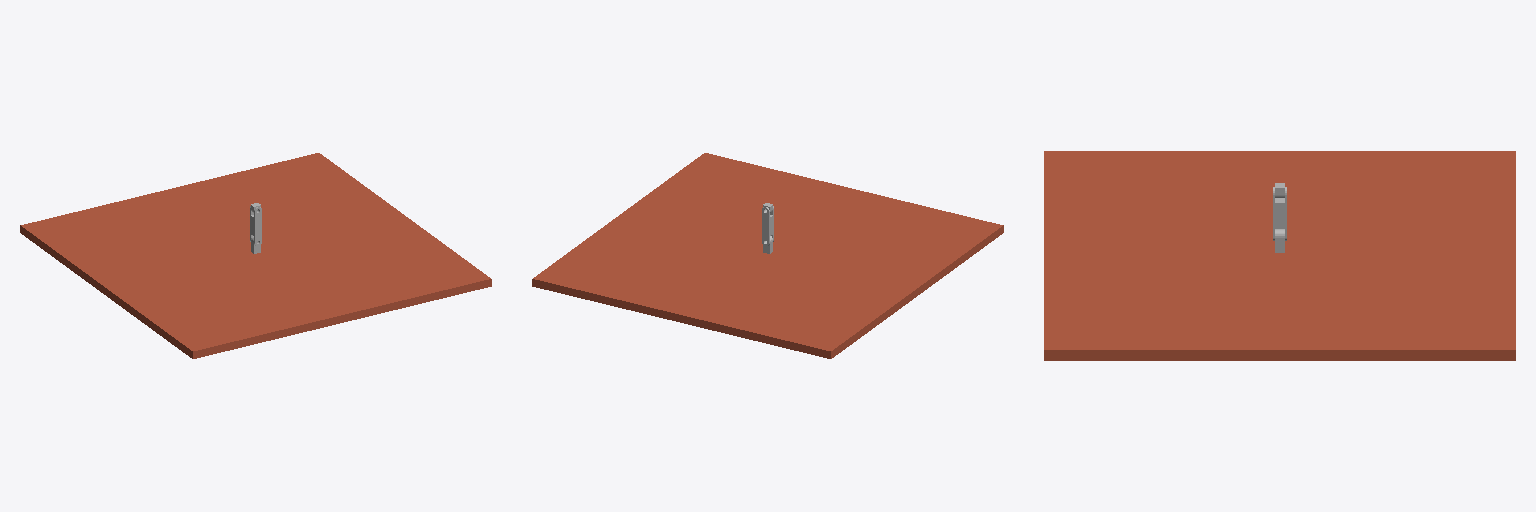
robot.urdf — adaption_finger:
<robot
  name="adaption_finger">
  <link
    name="finger_base_link">
    <inertial>
      <origin
        xyz="2.1684E-19 1.7347E-18 0.0012139"
        rpy="0 0 0" />
      <mass
        value="0.00063708" />
      <inertia
        ixx="0"
        ixy="0"
        ixz="0"
        iyy="0"
        iyz="0"
        izz="0" />
    </inertial>
    <visual>
      <origin
        xyz="0 0 0"
        rpy="0 0 0" />
      <geometry>
        <mesh
          filename="package://adaption_finger/meshes/base_link.STL" />
      </geometry>
      <material
        name="">
        <color
          rgba="0.75294 0.75294 0.75294 1" />
      </material>
    </visual>
    <collision>
      <origin
        xyz="0 0 0"
        rpy="0 0 0" />
      <geometry>
        <mesh
          filename="package://adaption_finger/meshes/base_link.STL" />
      </geometry>
    </collision>
  </link>
  <link
    name="upper_link">
    <inertial>
      <origin
        xyz="4.3368E-18 1.7347E-18 -0.02"
        rpy="0 0 0" />
      <mass
        value="0.0036771" />
      <inertia
        ixx="0"
        ixy="0"
        ixz="0"
        iyy="0"
        iyz="0"
        izz="0" />
    </inertial>
    <visual>
      <origin
        xyz="0 0 0"
        rpy="0 0 0" />
      <geometry>
        <mesh
          filename="package://adaption_finger/meshes/upper_link.STL" />
      </geometry>
      <material
        name="">
        <color
          rgba="0.75294 0.75294 0.75294 1" />
      </material>
    </visual>
    <collision>
      <origin
        xyz="0 0 0"
        rpy="0 0 0" />
      <geometry>
        <mesh
          filename="package://adaption_finger/meshes/upper_link.STL" />
      </geometry>
    </collision>
  </link>
  <joint
    name="tail_joint"
    type="continuous">
    <origin
      xyz="0 0 0"
      rpy="0 0 0" />
    <parent
      link="finger_base_link" />
    <child
      link="upper_link" />
    <axis
      xyz="0 -1 0" />
  </joint>
  <link
    name="tip_link">
    <inertial>
      <origin
        xyz="5.2042E-18 1.7347E-18 -0.02"
        rpy="0 0 0" />
      <mass
        value="0.0035142" />
      <inertia
        ixx="0"
        ixy="0"
        ixz="0"
        iyy="0"
        iyz="0"
        izz="0" />
    </inertial>
    <visual>
      <origin
        xyz="0 0 0"
        rpy="0 0 0" />
      <geometry>
        <mesh
          filename="package://adaption_finger/meshes/tip_link.STL" />
      </geometry>
      <material
        name="">
        <color
          rgba="0.75294 0.75294 0.75294 1" />
      </material>
    </visual>
    <collision>
      <origin
        xyz="0 0 0"
        rpy="0 0 0" />
      <geometry>
        <mesh
          filename="package://adaption_finger/meshes/tip_link.STL" />
      </geometry>
    </collision>
  </link>
  <joint
    name="tip_joint"
    type="continuous" >
    <origin
      xyz="0 0 -0.04"
      rpy="0 0 0" />
    <parent
      link="upper_link" />
    <child
      link="tip_link" />
    <axis
      xyz="0 -1 0" />
  </joint>

  <link
    name="base_link">
    <visual>
      <origin
        xyz="0 0 -0.005"
        rpy="0 0 0" />
      <geometry>
        <box size="0.4 0.4 0.01" />
      </geometry>
      <material
        name="">
        <color
          rgba="0.75 0.4 0.294 1" />
      </material>
    </visual>
  </link>
  <joint
    name="fake_joint"
    type="prismatic">
    <origin
      xyz="0 0 0.054641"
      rpy="0 0 0" />
    <parent
      link="base_link" />
    <child
      link="finger_base_link" />
    <axis
      xyz="1 0 0" />
    <limit
      lower="-1.0"
      upper="1.0" 
      effort="100"
      velocity="1" />
  </joint>

</robot>

--- Render facts (derived) ---
The picture shows the robot from 3 angles, left to right: view 1: azimuth 30°, elevation 25°; view 2: azimuth 150°, elevation 25°; view 3: azimuth 270°, elevation 25°; orthographic projection.
Robot: adaption_finger — 4 links, 3 joints (2 continuous, 1 prismatic); root link base_link; default pose: every joint at zero.
Links seen in each view (by area): view 1: base_link; view 2: base_link; view 3: base_link, upper_link.
Link boxes in pixels (left/top/right/bottom): base_link: left=20, top=153, right=491, bottom=358; base_link: left=532, top=153, right=1003, bottom=358; base_link: left=1044, top=151, right=1515, bottom=360; upper_link: left=1273, top=187, right=1286, bottom=240.
Bounding box of the posed robot: 0.4 × 0.4 × 0.0909 m (x, y, z).
Meshes: 3 distinct files referenced, 3 mesh visuals loaded (3 binary STL).